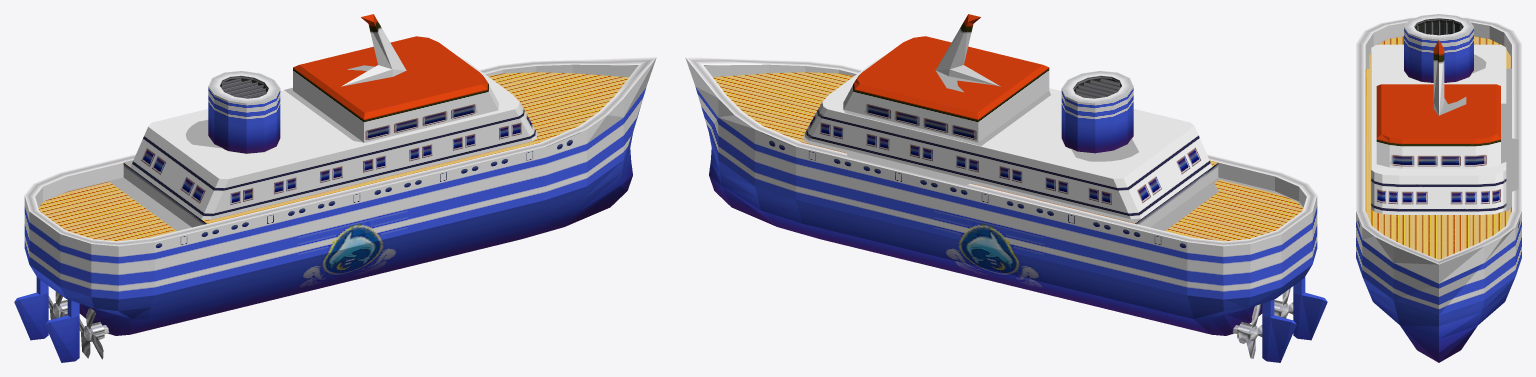
The model's file is riccoshipdol.dae.
The picture shows the model from 3 angles, left to right: view 1: azimuth 30°, elevation 25°; view 2: azimuth 150°, elevation 25°; view 3: azimuth 270°, elevation 25°; orthographic projection. The views are drawn at different scales.
Visible parts, largest first — view 1: m0, m1; view 2: m0, m1; view 3: m0, m1.
Part boxes in pixels (bbox=[...]): m0: bbox=[14, 14, 656, 362]; m1: bbox=[109, 65, 374, 231]; m0: bbox=[685, 14, 1327, 362]; m1: bbox=[803, 70, 1303, 230]; m0: bbox=[1356, 14, 1521, 362]; m1: bbox=[1365, 39, 1518, 213].
Size of the model in its own units: 4177 by 1656 by 1094.
2 materials, 2 textured.
